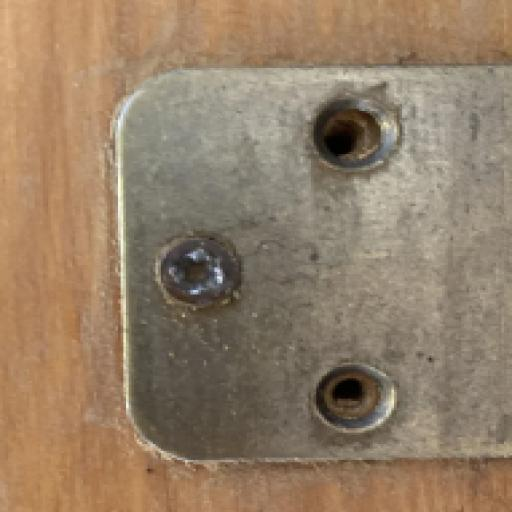Phillips: (164, 241, 237, 306)
